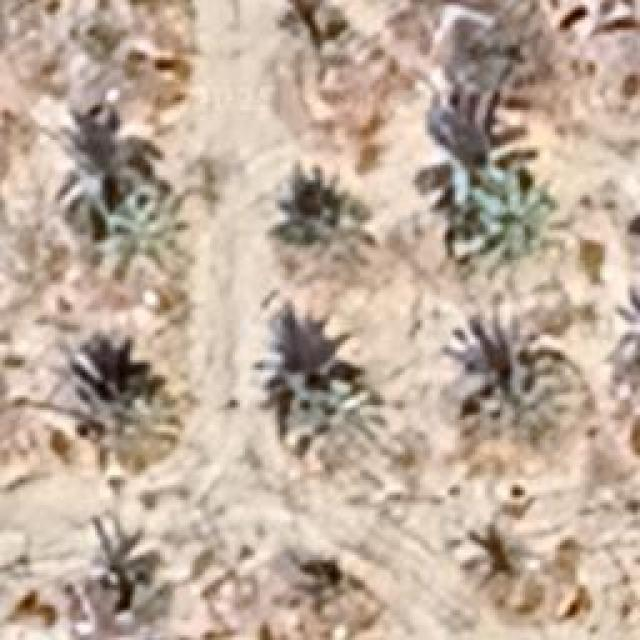PalmTree: (75, 48, 332, 578), (446, 174, 546, 276), (466, 354, 572, 446), (280, 380, 382, 472), (85, 367, 185, 455), (291, 174, 371, 262), (98, 185, 176, 270)
